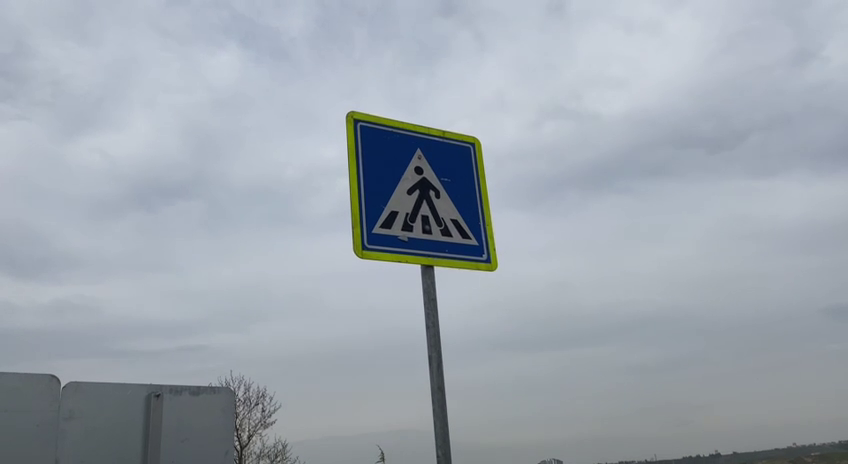pedestrianCrossing: (342, 108, 499, 273)
